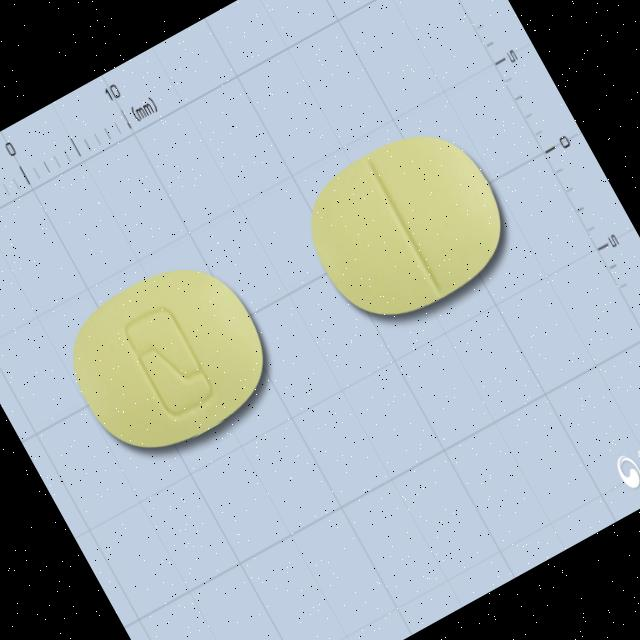Claroma Tab-500mg: (45, 236, 292, 478), (283, 106, 531, 346)
